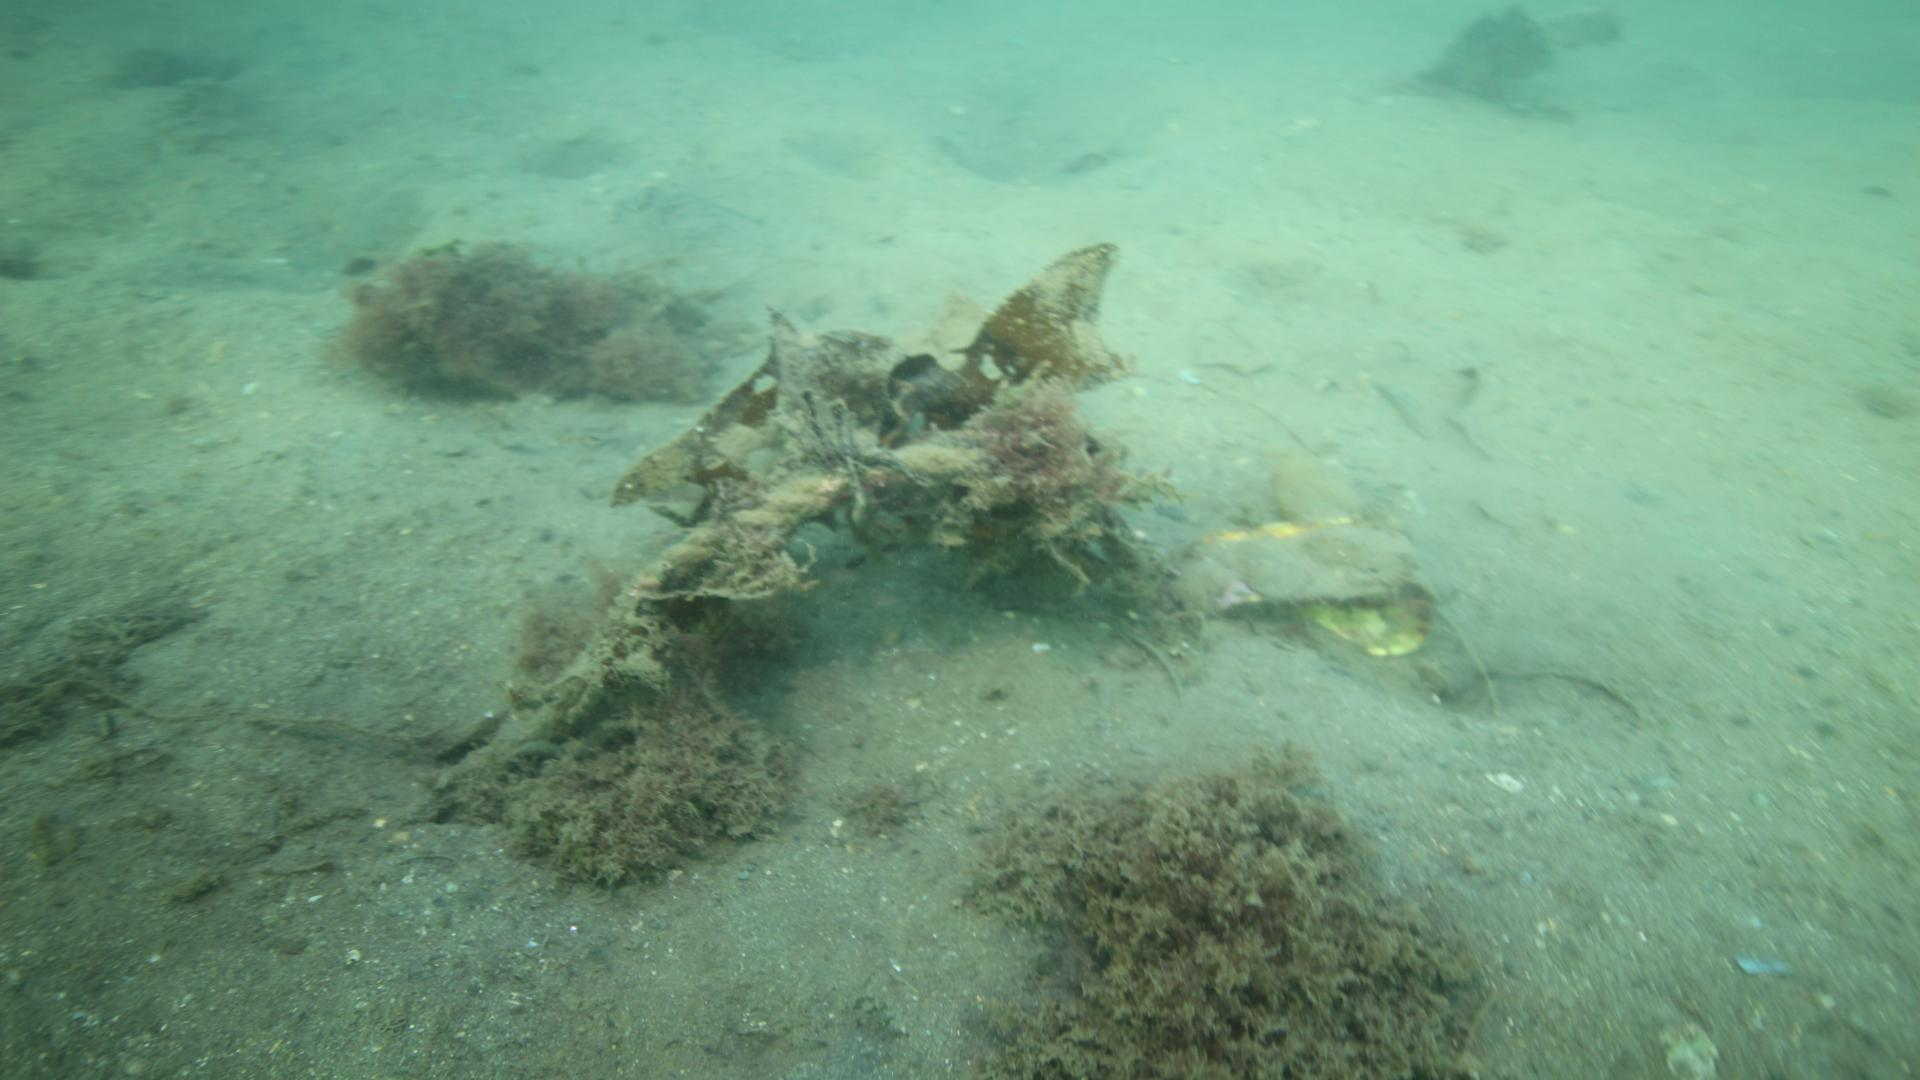rope: (603, 447, 882, 641)
